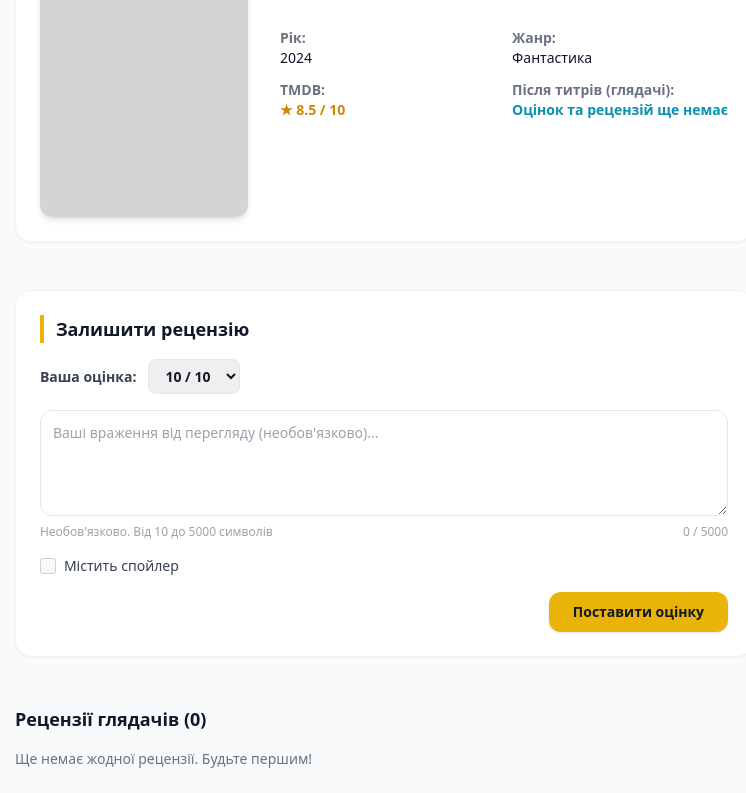
Test: MovieDetails review form (FR-003, FR-004) › opens the login window when the session has expired
(page scrolled)
Click the button "Поставити оцінку" at (638, 612), box x1=549 y1=592 x2=728 y2=632
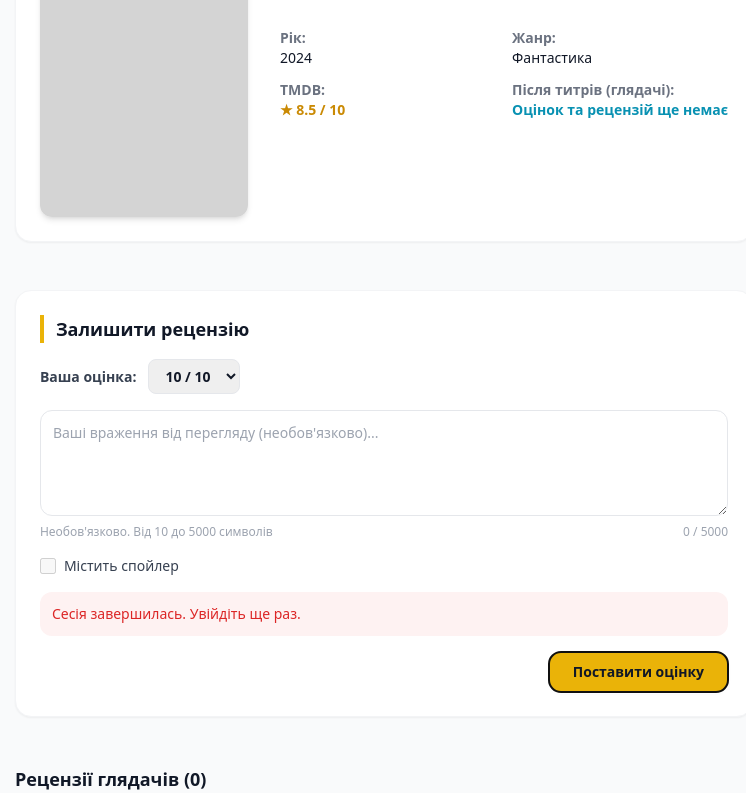
Check: the text "Сесія завершилась. Увійдіть ще раз." is shown, box x1=40 y1=592 x2=728 y2=636
